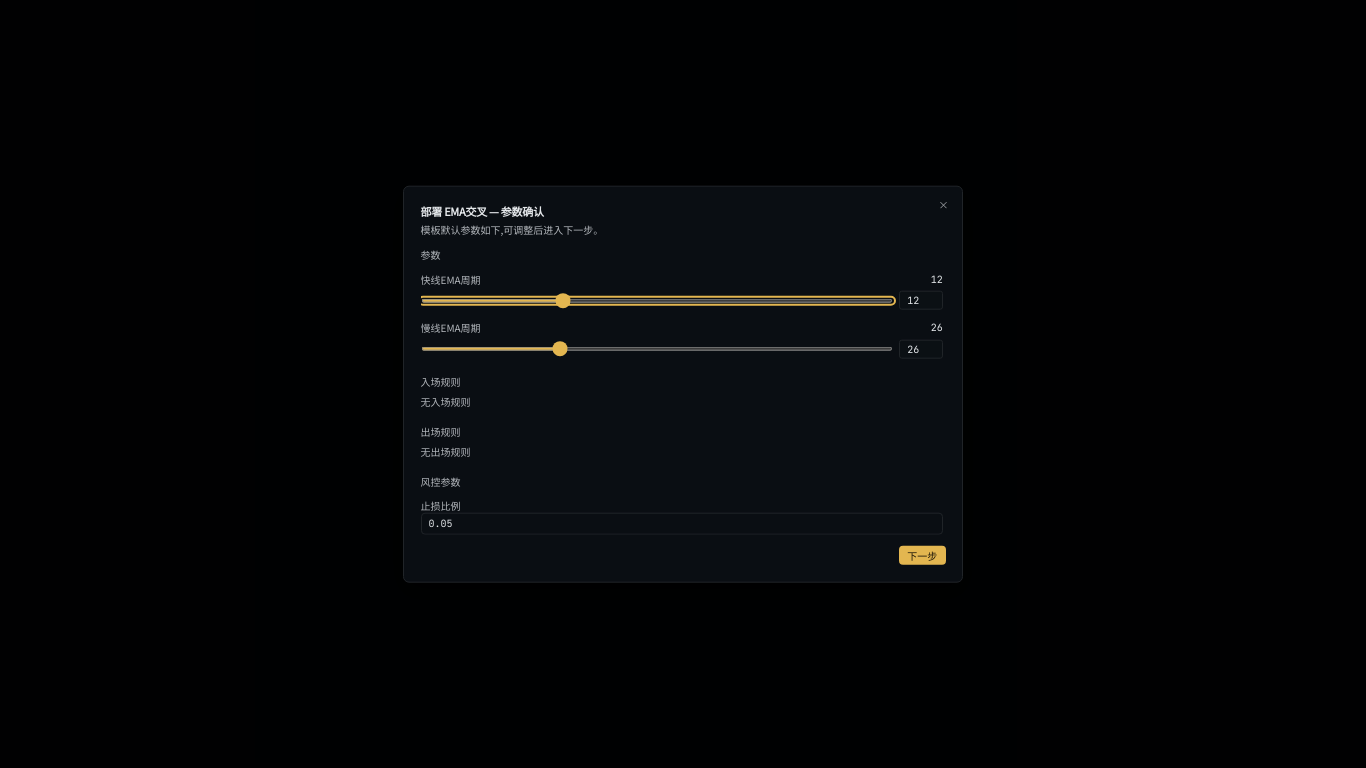
Test: DeployWizardDialog US-2 › Step0→Step1: 空交易对挡住下一步
Check: the text "26" is shown, box [931, 321, 943, 335]
Click the button "下一步": coordinates (922, 555) [899, 546, 946, 565]
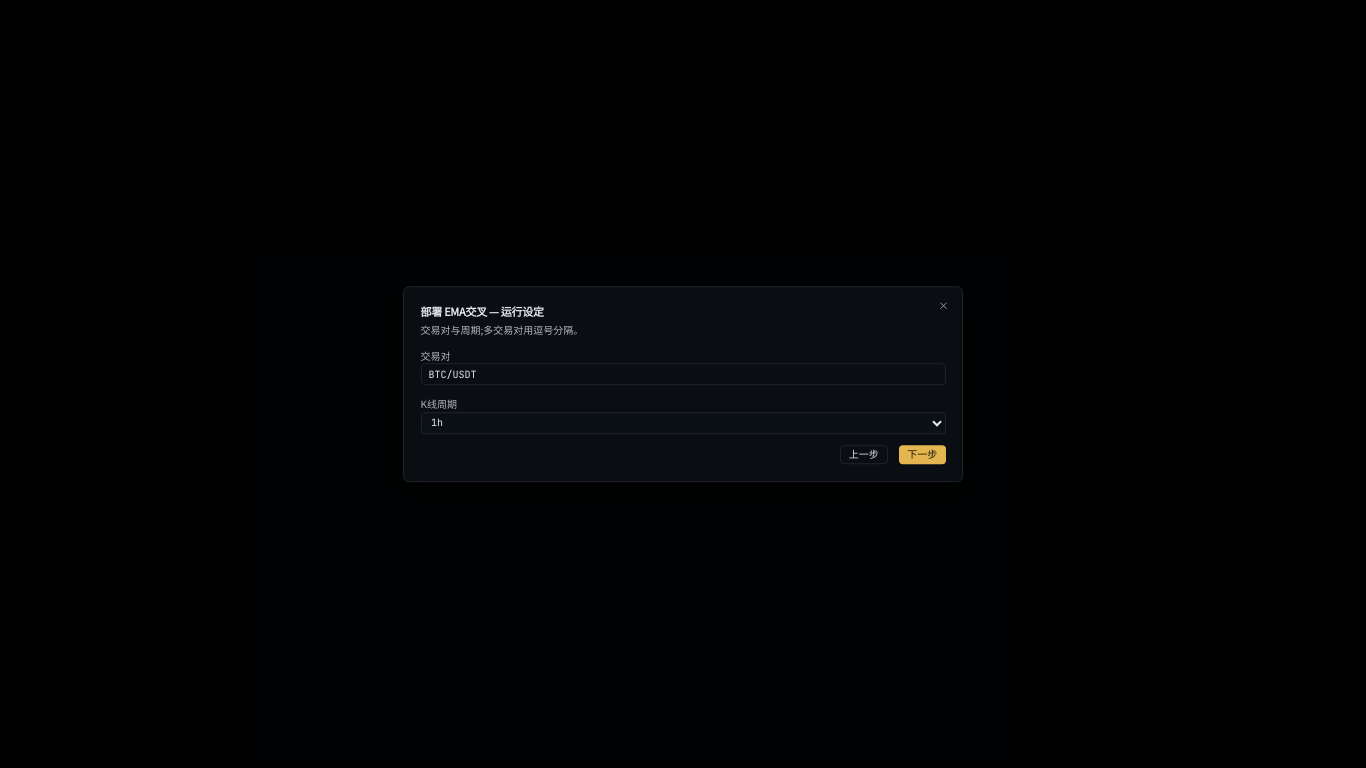
# Step1: 清空交易对 → 下一步 disabled
Clear the field with placeholder "BTC/USDT, ETH/USDT": coordinates (683, 375) [420, 364, 946, 386]
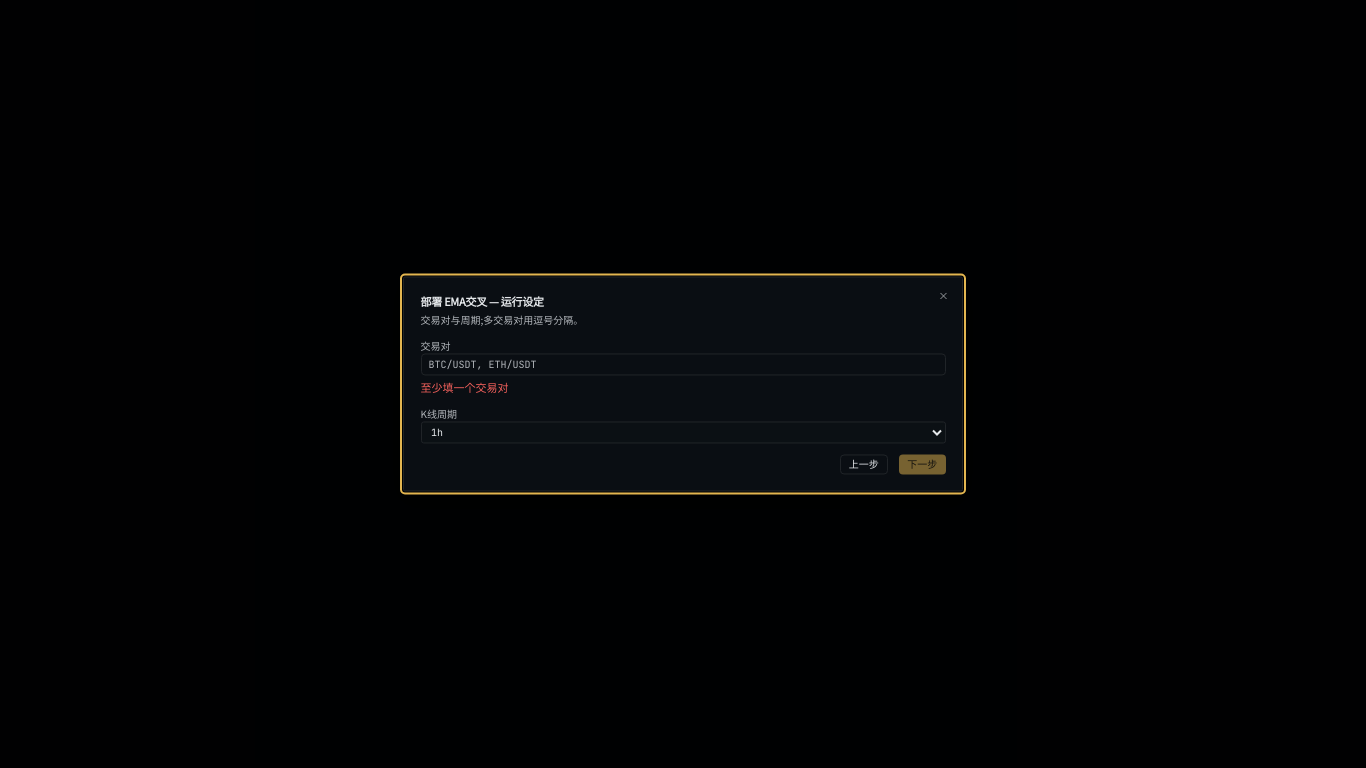
Check: the text "至少填一个交易对" is shown, box [420, 379, 508, 395]
Check: the button "下一步" is disabled, box [899, 455, 946, 474]
